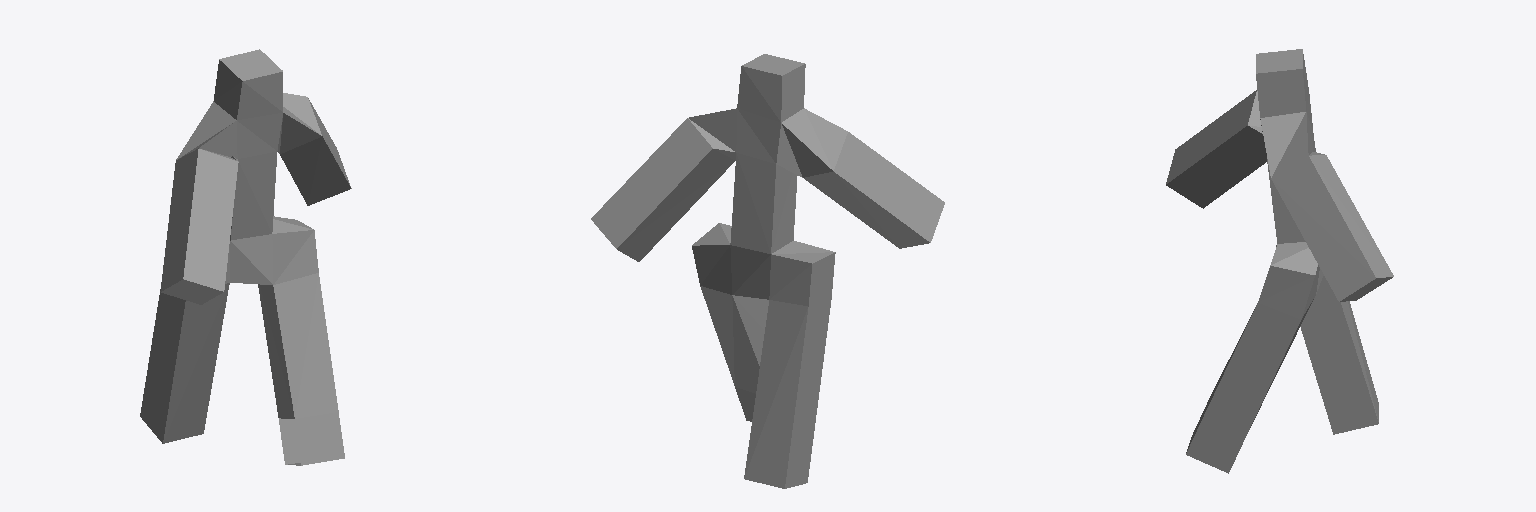
File: cuboid_000016.obj
3 views of the same model, side by side, from view 1: azimuth 30°, elevation 25°; view 2: azimuth 150°, elevation 25°; view 3: azimuth 270°, elevation 25° (orthographic).
Visible parts, largest first — view 1: Cube; view 2: Cube; view 3: Cube.
Part boxes in pixels (left/top/right/bottom): Cube: left=140, top=49, right=351, bottom=465; Cube: left=591, top=54, right=944, bottom=488; Cube: left=1166, top=49, right=1393, bottom=473.
Size of the model in its own units: 3.16 by 4.55 by 2.42.